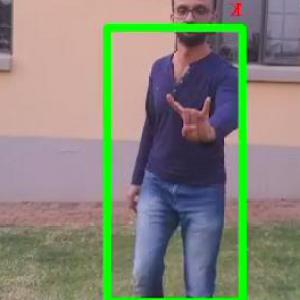takeoff-hand: (160, 82, 224, 156)
